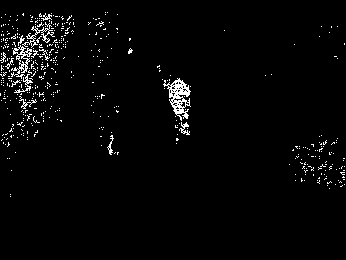person: (168, 76, 192, 143)
